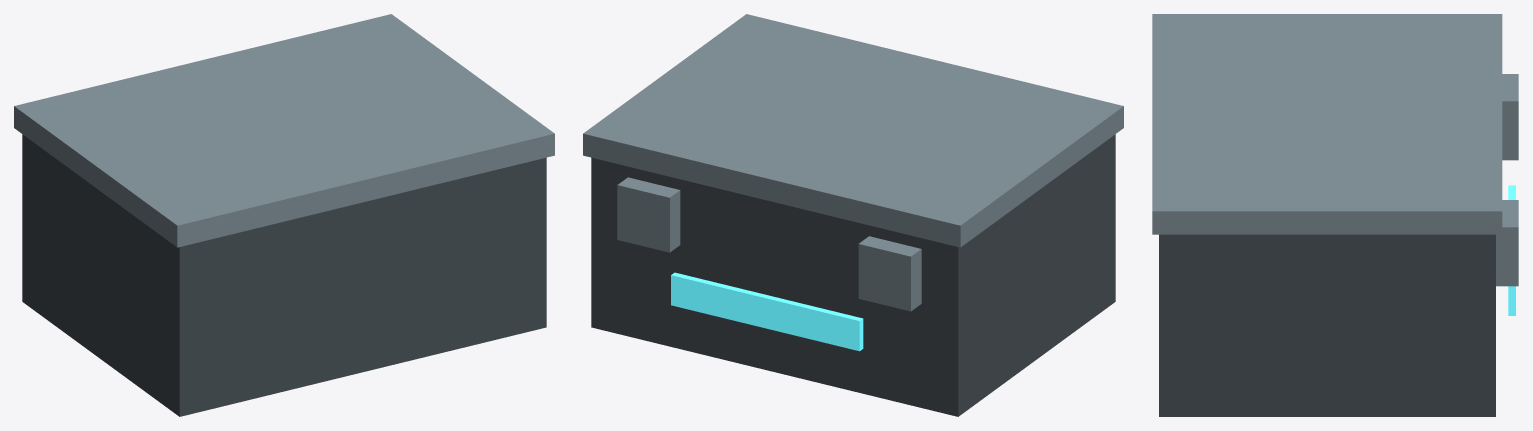
File: Identity-foundry_maintenance_box.glb
3 views of the same model, side by side, from view 1: azimuth 30°, elevation 25°; view 2: azimuth 150°, elevation 25°; view 3: azimuth 270°, elevation 25° (orthographic). The views are drawn at different scales.
Visible parts, largest first — view 1: MaintenanceCase, Lid; view 2: MaintenanceCase, Lid, WarningBand, LatchL, LatchR; view 3: Lid, MaintenanceCase, LatchR, LatchL, WarningBand.
Part boxes in pixels (bbox=[...]): MaintenanceCase: bbox=[22, 134, 546, 416]; Lid: bbox=[14, 14, 554, 247]; MaintenanceCase: bbox=[591, 134, 1115, 416]; Lid: bbox=[583, 14, 1123, 247]; WarningBand: bbox=[671, 272, 863, 351]; LatchL: bbox=[858, 236, 921, 311]; LatchR: bbox=[617, 177, 680, 252]; Lid: bbox=[1152, 14, 1502, 234]; MaintenanceCase: bbox=[1159, 234, 1495, 416]; LatchR: bbox=[1496, 200, 1518, 286]; LatchL: bbox=[1502, 74, 1518, 160]; WarningBand: bbox=[1508, 185, 1515, 315].
Size of the model in its own units: 1.44 by 0.71 by 1.13.
